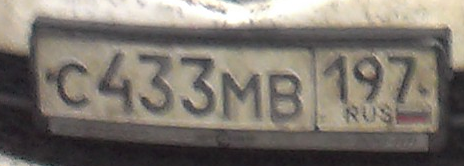character: (138, 41, 178, 116), (180, 48, 219, 118), (220, 68, 267, 125), (99, 44, 135, 117), (55, 56, 94, 118), (267, 69, 307, 125), (353, 48, 385, 105), (322, 50, 353, 108), (387, 48, 417, 103)
